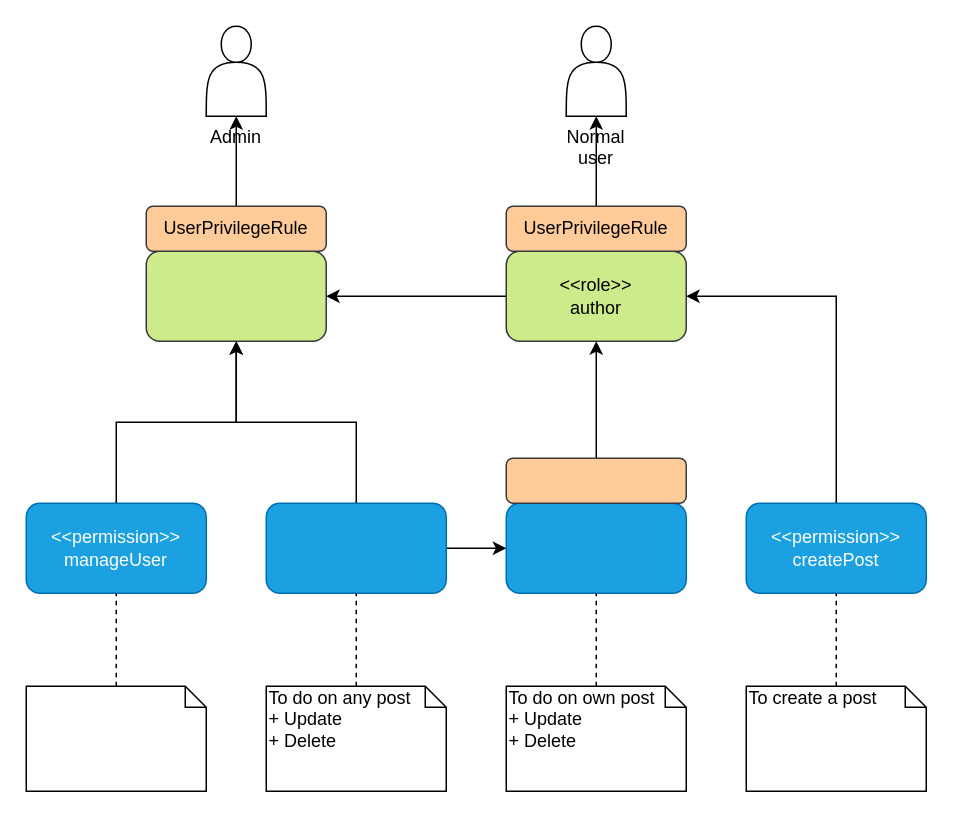
Image size: 953x822. Some labels were removed from this diagram. The box of each missing label's shape, as (x1, y1, x2, y2) in pixels:
<<permission>> updateOwnPost: (505, 502, 686, 593)
<<permission>> updatePost: (265, 502, 446, 593)
<<role>> admin: (145, 250, 326, 341)
AuthorRule: (505, 457, 686, 503)
To do on user + View + Create + Update + Delete: (25, 685, 206, 791)
